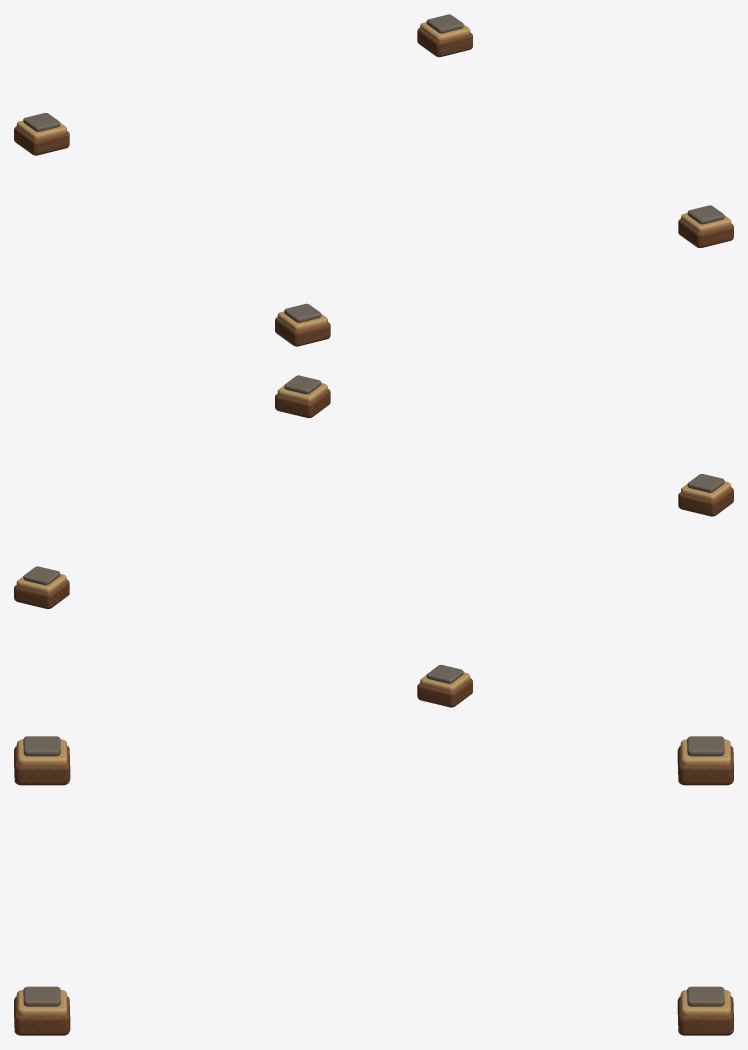
Rendered from wind_control_ferry_lights.glb.
3 views of the same model, one above another, from view 1: azimuth 30°, elevation 25°; view 2: azimuth 150°, elevation 25°; view 3: azimuth 270°, elevation 25° (orthographic). The views are drawn at different scales.
Visible parts, largest first — view 1: Oak, Brass; view 2: Oak, Brass; view 3: Oak, Brass, Lens1, Lens2, Lens0, Lens3.
Part boxes in pixels (x1=…): Oak: x1=14, y1=28, x2=733, y2=346; Brass: x1=16, y1=22, x2=731, y2=330; Oak: x1=14, y1=389, x2=733, y2=707; Brass: x1=16, y1=383, x2=731, y2=691; Oak: x1=14, y1=746, x2=733, y2=1035; Brass: x1=16, y1=739, x2=731, y2=1015; Lens1: x1=23, y1=736, x2=60, y2=756; Lens2: x1=687, y1=986, x2=724, y2=1006; Lens0: x1=687, y1=736, x2=724, y2=756; Lens3: x1=23, y1=986, x2=60, y2=1006.
Size of the model in its own units: 0.346 by 0.0188 by 0.384.
Materials: 3 (1 with a texture image).
